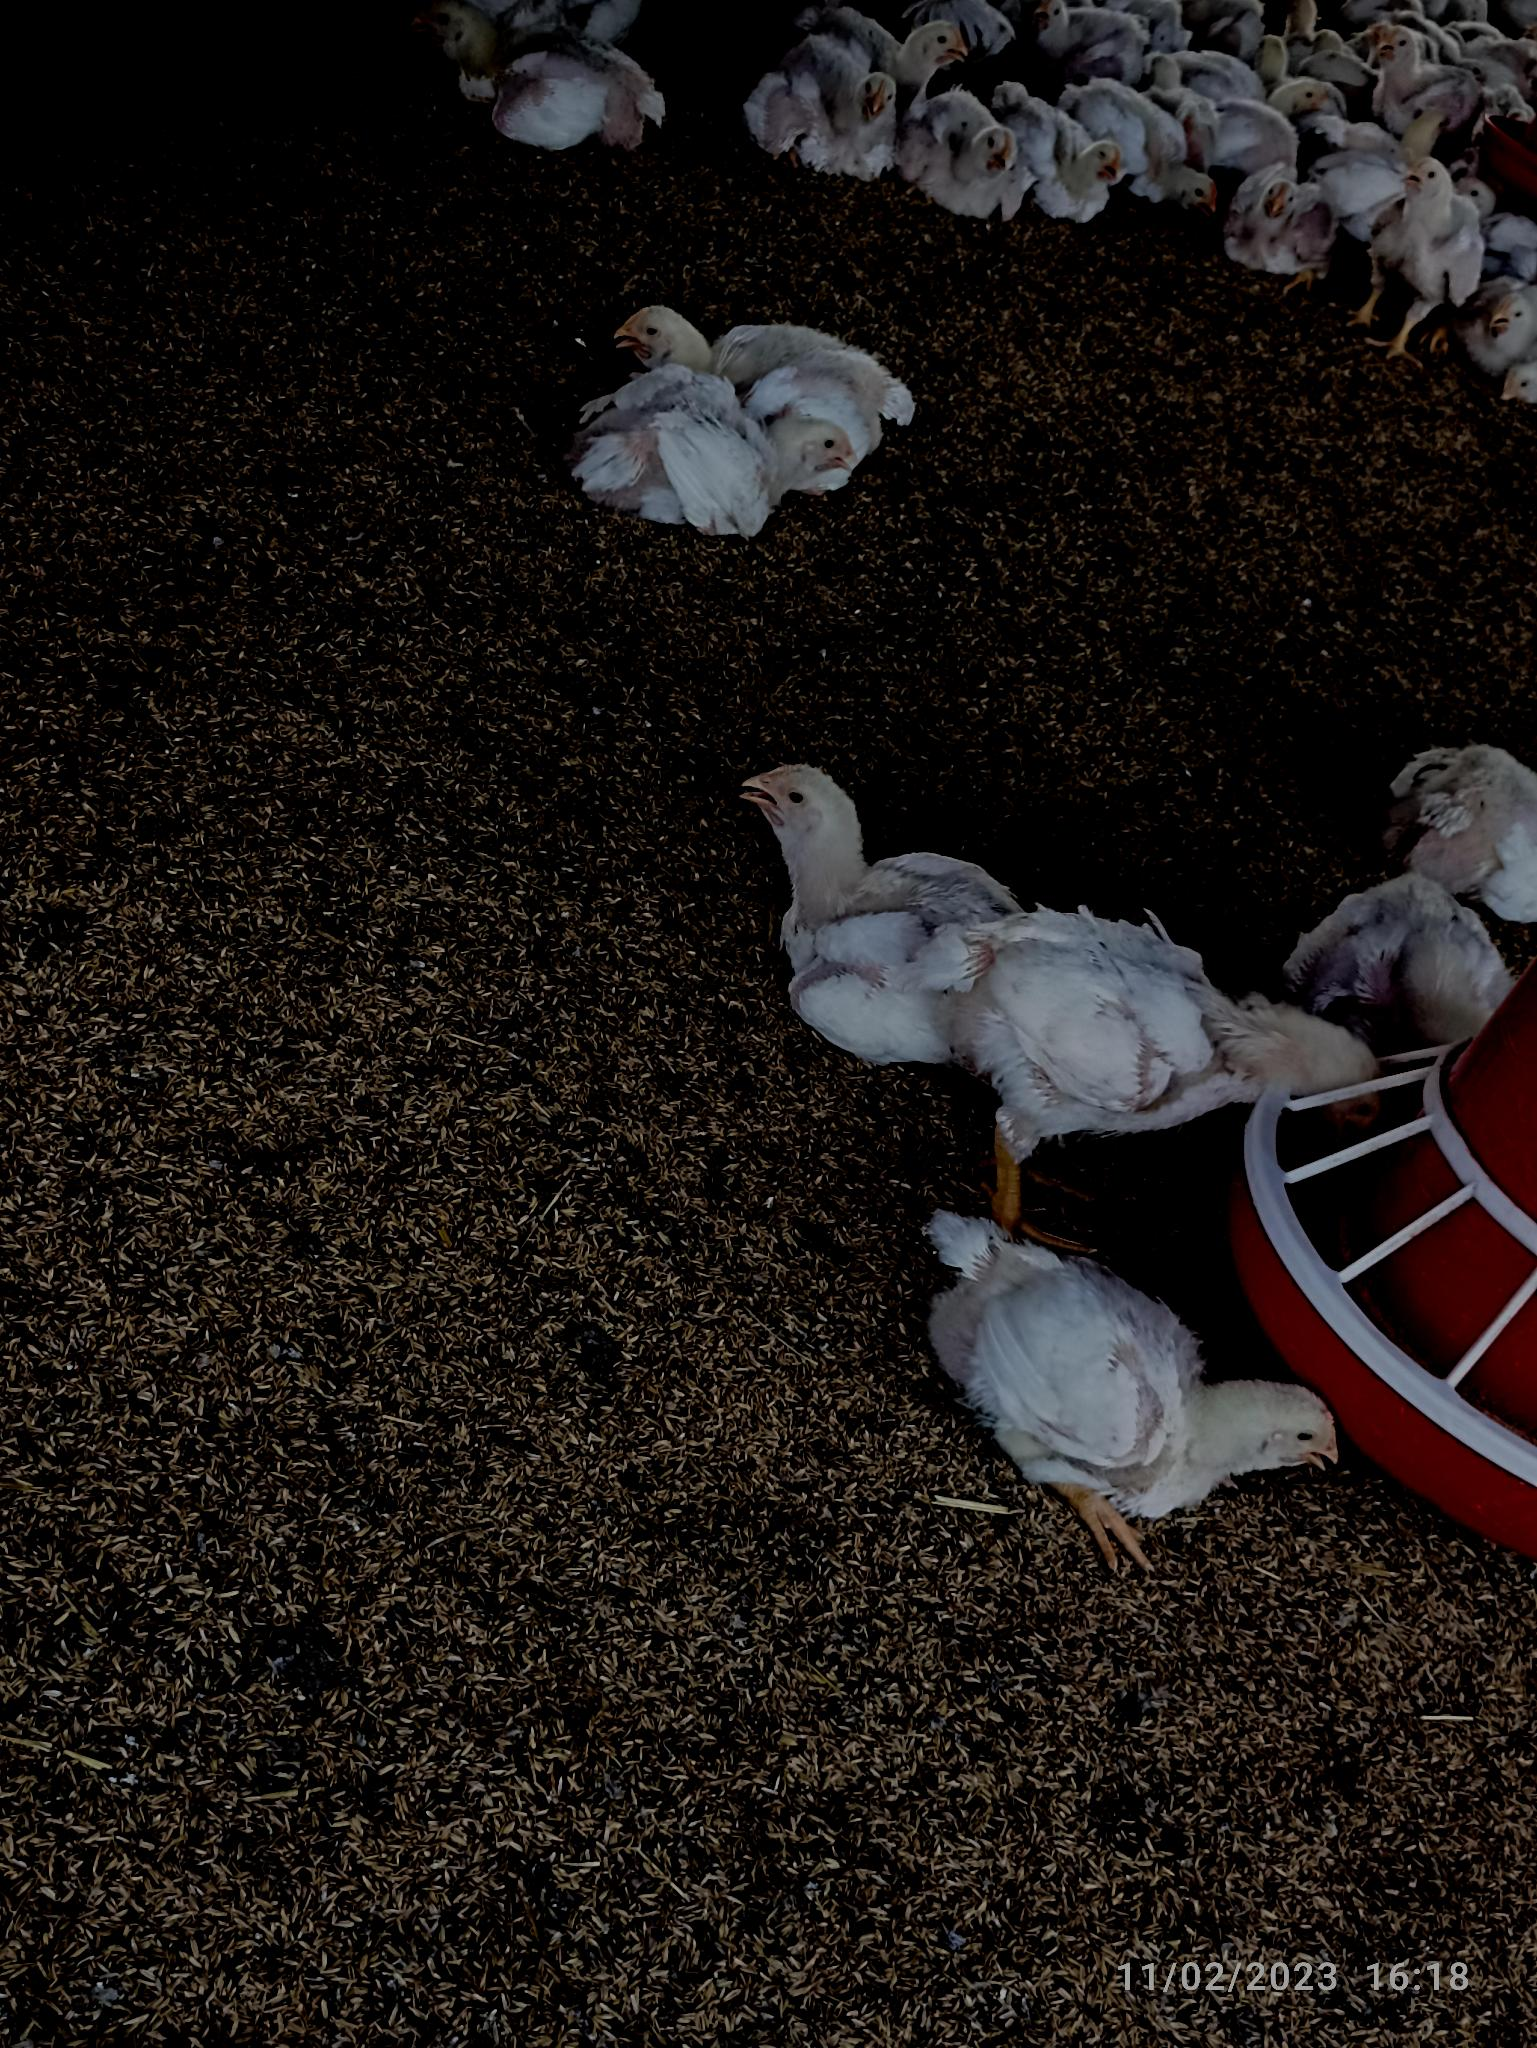Pollos: (928, 1210, 1363, 1567), (962, 884, 1387, 1178), (565, 295, 896, 533), (739, 759, 969, 1059), (425, 2, 675, 155), (768, 39, 899, 165), (1227, 161, 1343, 282), (1376, 155, 1489, 278), (919, 108, 1019, 224), (1024, 123, 1119, 215)
